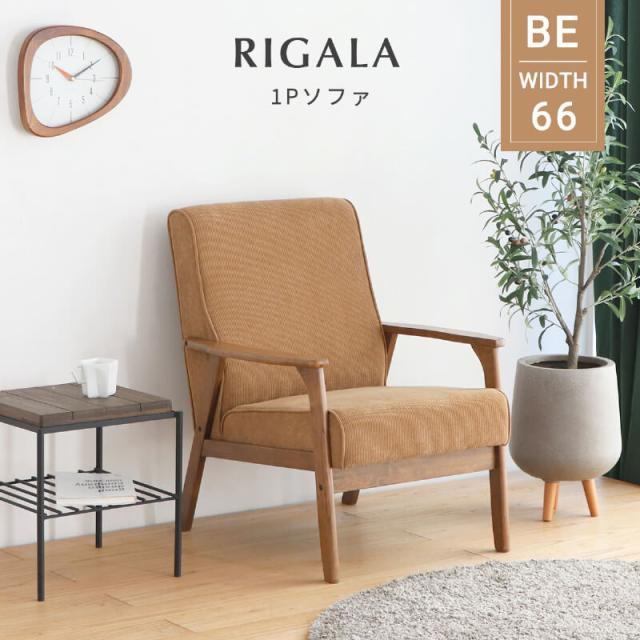vintage chair: (168, 196, 513, 582)
